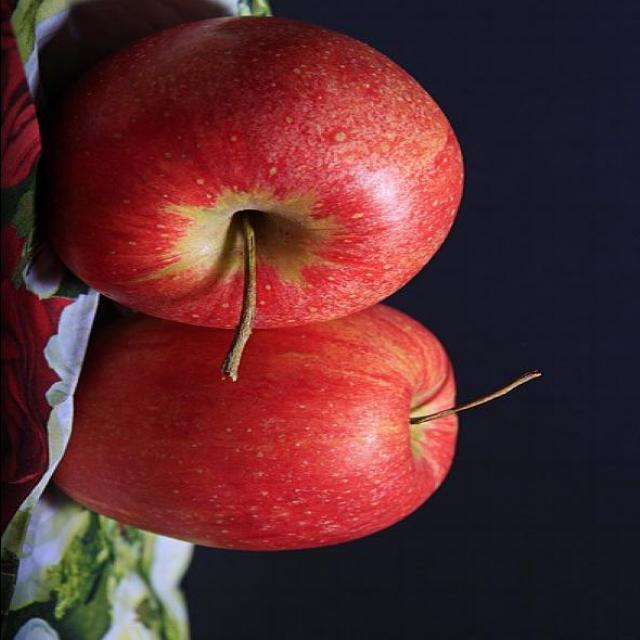apple: (32, 19, 476, 322), (41, 288, 452, 558)
